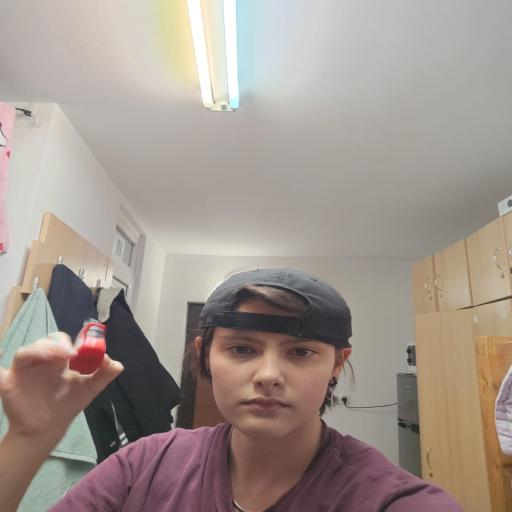Super Glue: (73, 317, 108, 375)
